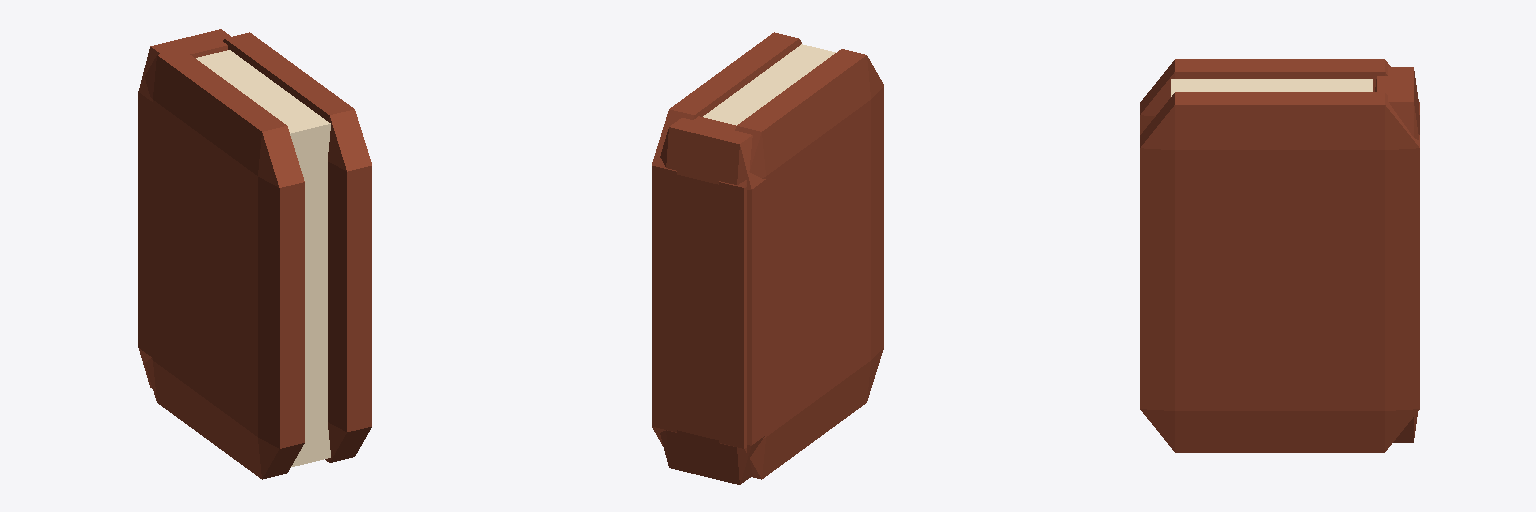
File: Book1.obj
3 views of the same model, side by side, from view 1: azimuth 30°, elevation 25°; view 2: azimuth 150°, elevation 25°; view 3: azimuth 270°, elevation 25° (orthographic).
Visible parts, largest first — view 1: mergedBlocks; view 2: mergedBlocks; view 3: mergedBlocks.
Boxes of the visible parts, x1=… form: mergedBlocks: x1=138, y1=29, x2=371, y2=479; mergedBlocks: x1=652, y1=32, x2=883, y2=484; mergedBlocks: x1=1140, y1=59, x2=1419, y2=452.
Bounding box in the file's own units: 0.09 × 0.2952 × 0.2155.